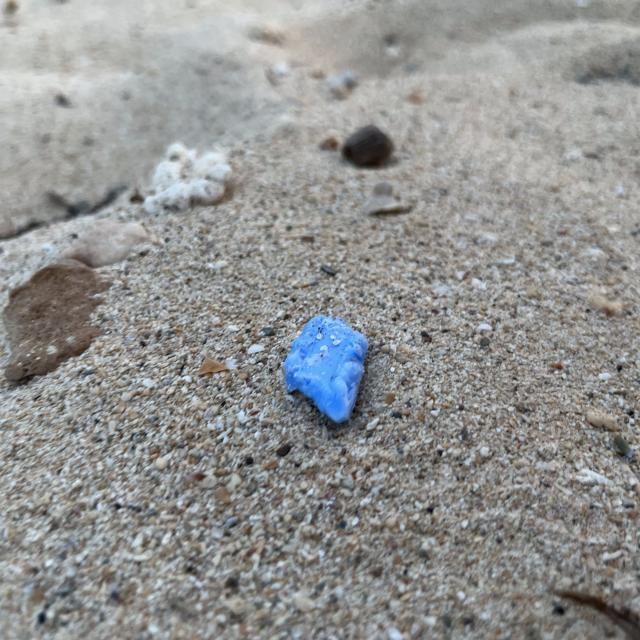coral: (132, 134, 251, 217)
trash: (266, 308, 392, 435)
